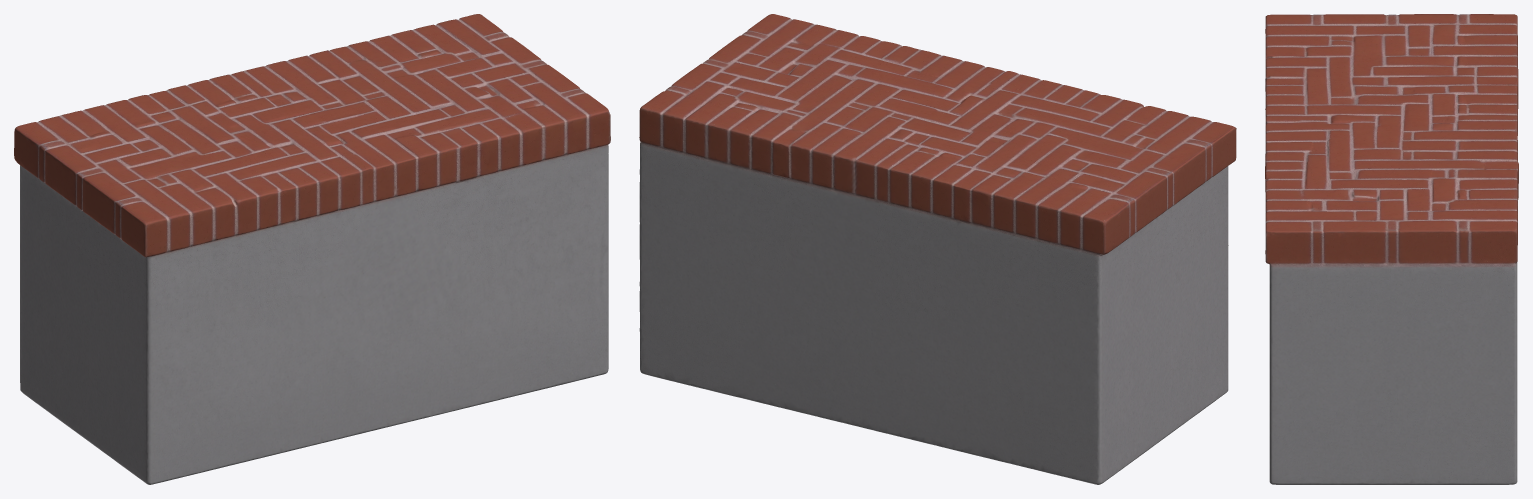
The model's file is Meshy_AI_Herringbone_Brickwork_0915102956_texture.fbx.
The picture shows the model from 3 angles, left to right: view 1: azimuth 30°, elevation 25°; view 2: azimuth 150°, elevation 25°; view 3: azimuth 270°, elevation 25°; orthographic projection. The views are drawn at different scales.
Visible parts, largest first — view 1: Mesh_0; view 2: Mesh_0; view 3: Mesh_0.
Part boxes in pixels (x1,y1,x2,y2): Mesh_0: [14, 14, 610, 484]; Mesh_0: [639, 14, 1236, 484]; Mesh_0: [1265, 14, 1518, 484].
Bounding box in the file's own units: 190 × 104 × 93.34.
Materials: 1 (1 with a texture image).
